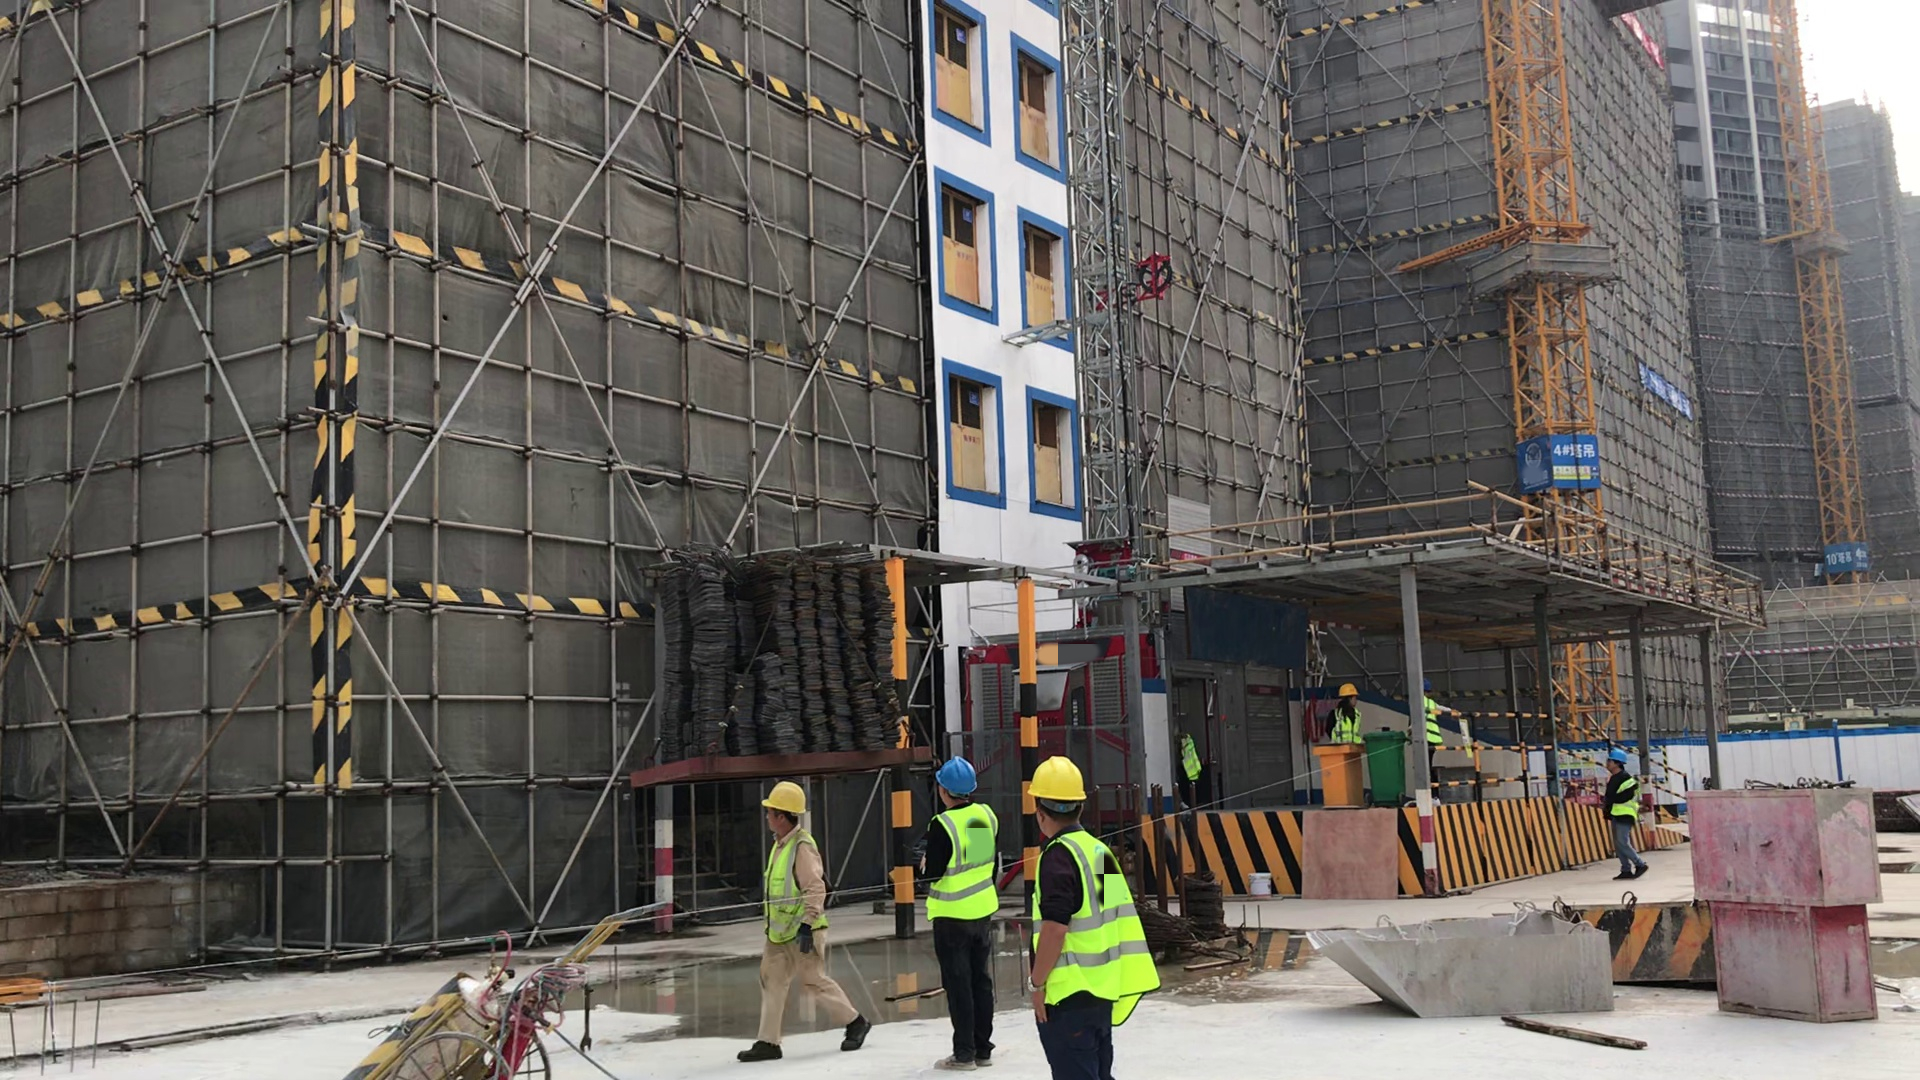helmet: (1025, 751, 1093, 814), (751, 762, 819, 816), (931, 750, 989, 801), (1608, 745, 1643, 777), (1331, 673, 1365, 704)
person: (1006, 749, 1174, 1080), (735, 762, 883, 1072), (908, 754, 1013, 1076), (1586, 741, 1685, 899), (1409, 673, 1471, 791), (1165, 707, 1219, 807), (1317, 673, 1370, 765)
vest: (1024, 828, 1170, 1028), (922, 796, 1002, 930), (756, 830, 834, 955), (1598, 773, 1651, 828), (1413, 692, 1452, 758), (1168, 732, 1210, 791), (1324, 701, 1364, 747)
